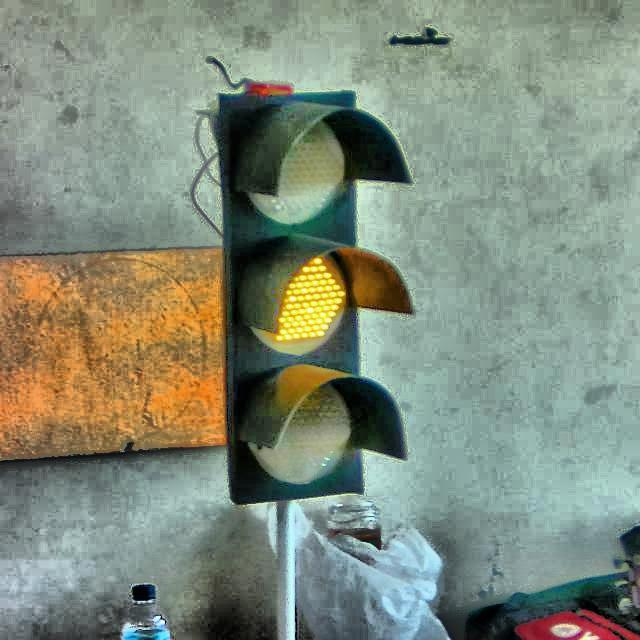yellow: (219, 88, 392, 492)
